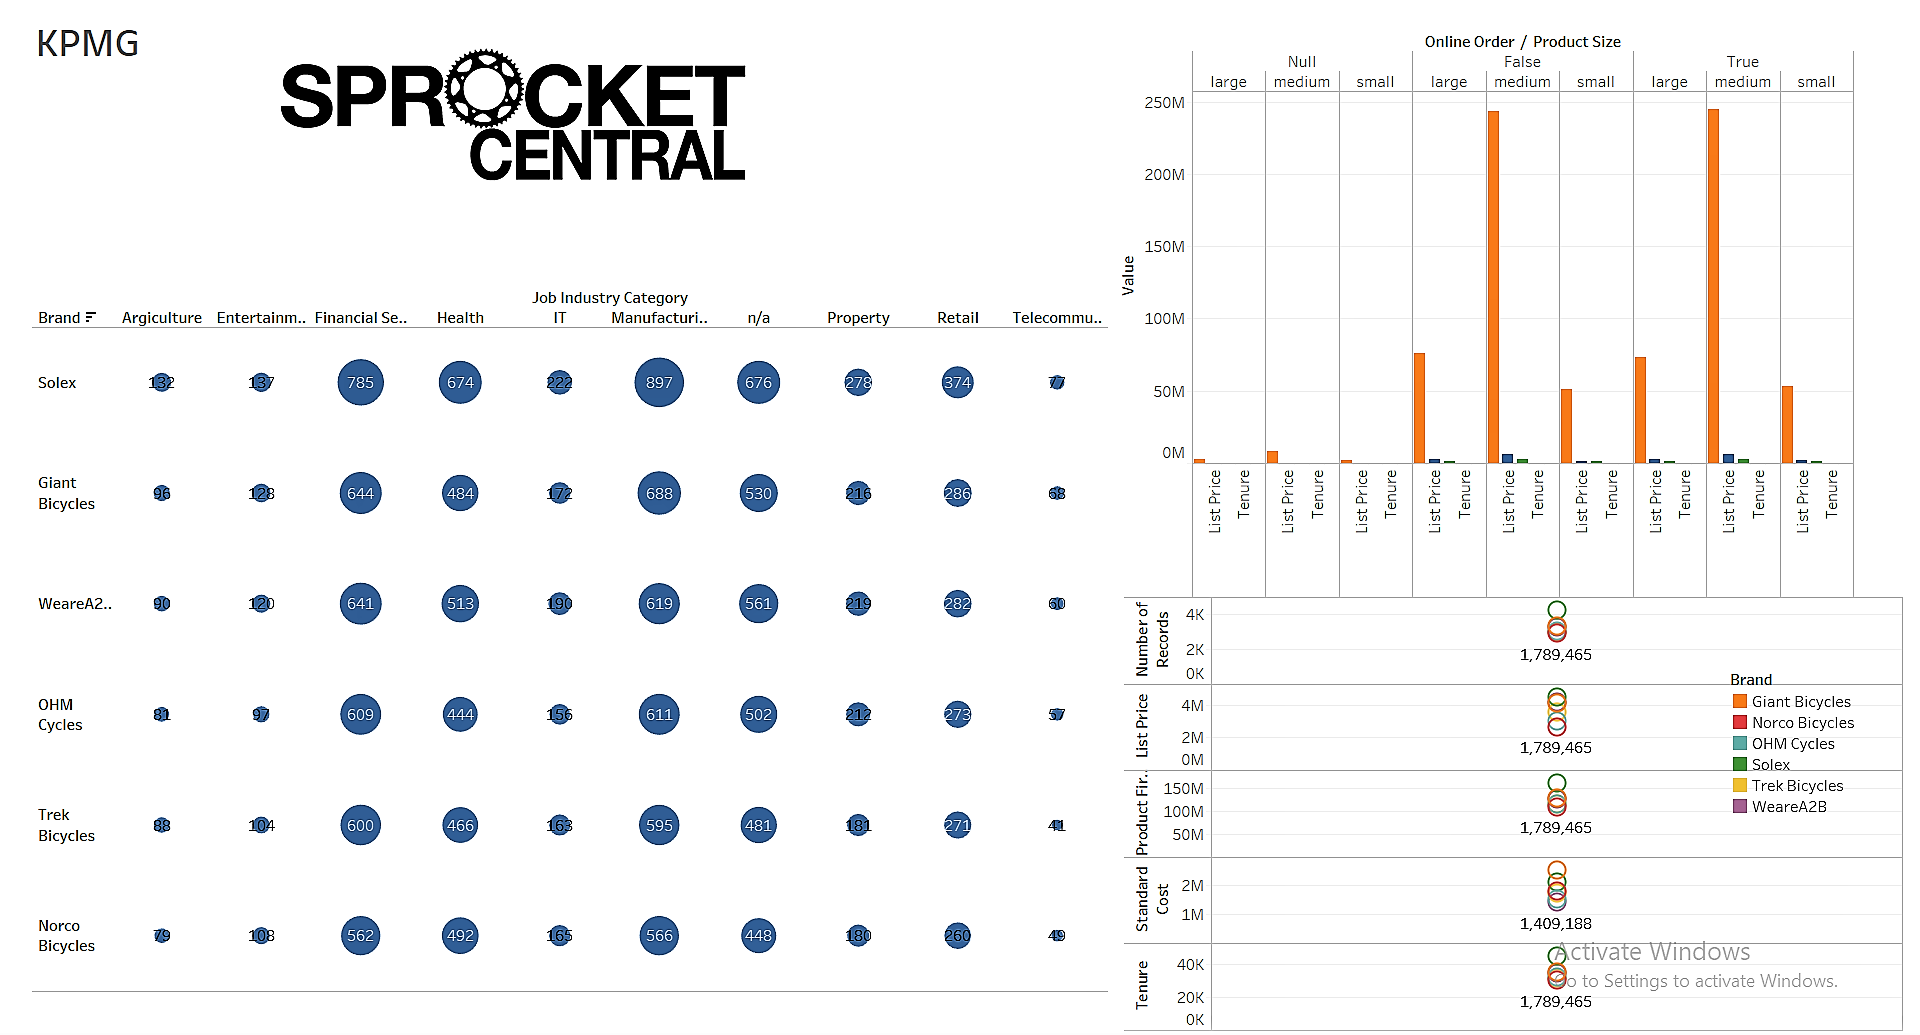

Layout of this report page (visuals, bound fields, positions):
{"tool":"tableau","page":{"name":"Dashboard 1","canvas":[1000,1000],"units":"permille","ordinal":0},"visuals":[{"type":"worksheet","title":"Sheet 2","mark":"Circle","box":[637.9,16,307.2,477.7]},{"type":"text","box":[6.6,16.4,112.9,34.1]},{"type":"image","param":"Image/sprocket_central_logo.png","box":[92.3,16.4,449,131.6]},{"type":"legend","title":"Sheet 2","param":"[federated.10zzsdp0hoaa021cgm0eb0f26sjg].[sum:Number of Records:qk]","box":[844.9,75.6,84.5,100.8]},{"type":"worksheet","title":"Sheet 3","mark":"Automatic","rows":["tenure"],"cols":["customer_id"],"box":[6.6,392.9,624,600.2]},{"type":"worksheet","title":"Sheet 1","mark":"Shape","rows":["list_price","product_first_sold_date","tenure"],"cols":["gender"],"box":[672.9,493.7,322.9,499.4]},{"type":"legend","title":"Sheet 1","param":"[federated.10zzsdp0hoaa021cgm0eb0f26sjg].[none:product_class:nk]","box":[941.5,515.5,42.9,112.3]},{"type":"legend","title":"Sheet 3","param":"[federated.10zzsdp0hoaa021cgm0eb0f26sjg].[none:Forecast Indicator:nk]","box":[465.9,518.9,84.5,73.3]}]}

Visuals, with their boxes on the dashboard's canvas, which has no fixed pixel size, in thousandths of its width and height (x1, y1, x2, y2). These are canvas units, not pixel positions in the 1920x1035 screenshot, which may show the page scaled, cropped or inside an application window:
"Sheet 2" worksheet (Circle marks): 638,16,945,494
text: 7,16,120,50
image: 92,16,541,148
"Sheet 2" legend: 845,76,929,176
"Sheet 3" worksheet: 7,393,631,993
"Sheet 1" worksheet (Shape marks): 673,494,996,993
"Sheet 1" legend: 942,516,984,628
"Sheet 3" legend: 466,519,550,592
